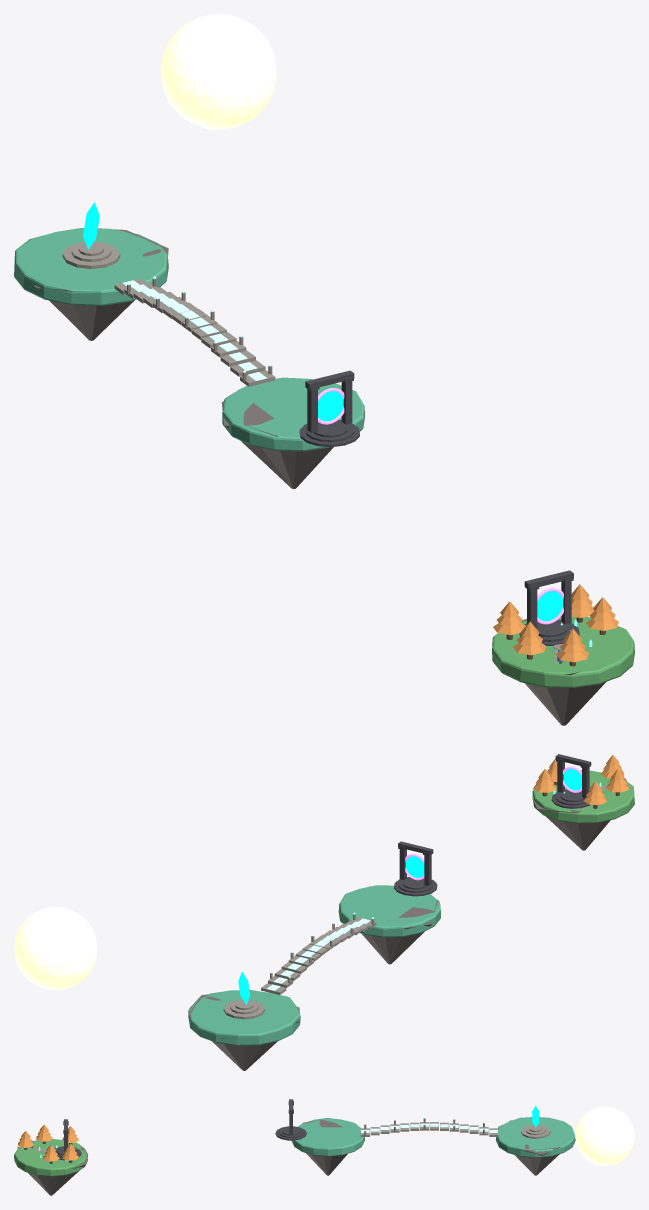
File: floating_island.glb
3 views of the same model, one above another, from view 1: azimuth 30°, elevation 25°; view 2: azimuth 150°, elevation 25°; view 3: azimuth 270°, elevation 25° (orthographic). The views are drawn at different scales.
Parts seen in each view (by area): view 1: Sunset_Sun_Disc, Island_3_Grass_Top, Island_1_Grass_Top, Island_2_Grass_Top, Island_2_Rock_Base, Island_3_Rock_Base, Island_1_Rock_Base; view 2: Sunset_Sun_Disc, Island_3_Grass_Top, Island_2_Grass_Top, Island_1_Grass_Top, Island_2_Rock_Base, Island_1_Rock_Base, Island_3_Rock_Base; view 3: Sunset_Sun_Disc, Island_3_Grass_Top, Island_2_Grass_Top, Island_1_Grass_Top, Island_3_Rock_Base, Island_2_Rock_Base, Island_1_Rock_Base, Sanctuary_Altar_Step_1, Portal_2_Dais_Step_1.
Boxes of the visible parts, x1,y1,x2,y2 form: Sunset_Sun_Disc: [160, 14, 276, 129]; Island_3_Grass_Top: [14, 228, 168, 305]; Island_1_Grass_Top: [492, 616, 634, 687]; Island_2_Grass_Top: [222, 377, 364, 451]; Island_2_Rock_Base: [221, 401, 365, 488]; Island_3_Rock_Base: [32, 229, 168, 340]; Island_1_Rock_Base: [521, 618, 634, 725]; Sunset_Sun_Disc: [14, 907, 97, 990]; Island_3_Grass_Top: [188, 990, 300, 1045]; Island_2_Grass_Top: [338, 885, 440, 937]; Island_1_Grass_Top: [532, 770, 634, 823]; Island_2_Rock_Base: [362, 886, 438, 964]; Island_1_Rock_Base: [532, 778, 626, 850]; Island_3_Rock_Base: [188, 994, 300, 1070]; Sunset_Sun_Disc: [575, 1106, 634, 1165]; Island_3_Grass_Top: [496, 1117, 575, 1157]; Island_2_Grass_Top: [291, 1118, 364, 1156]; Island_1_Grass_Top: [14, 1139, 87, 1176]; Island_3_Rock_Base: [509, 1120, 572, 1175]; Island_2_Rock_Base: [302, 1119, 347, 1175]; Island_1_Rock_Base: [17, 1147, 88, 1195]; Sanctuary_Altar_Step_1: [521, 1125, 550, 1138]; Portal_2_Dais_Step_1: [275, 1126, 306, 1140].
Size of the model in its own units: 40.19 by 32.25 by 135.
